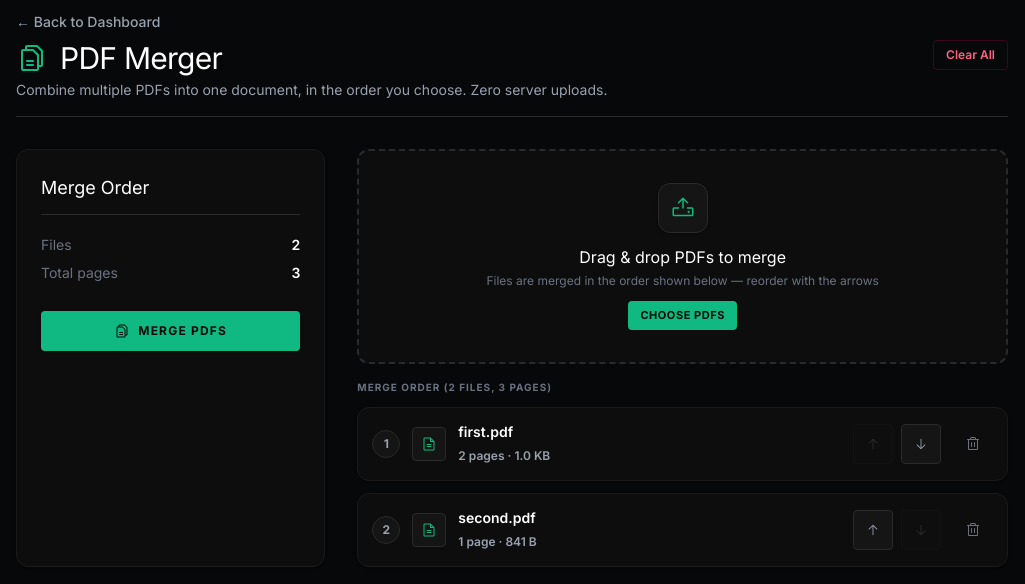
it: PdfMerger component › merges two uploaded PDFs in order and offers a download
The image size is (1025, 584).
Earlier steps of the test are not shown.
expect the heading "first.pdf" is shown: met, box [458,422,513,440]
expect the heading "second.pdf" is shown: met, box [458,508,537,528]
Click the button "Merge PDFs" at x=171, y=331, box [41,311,300,351]
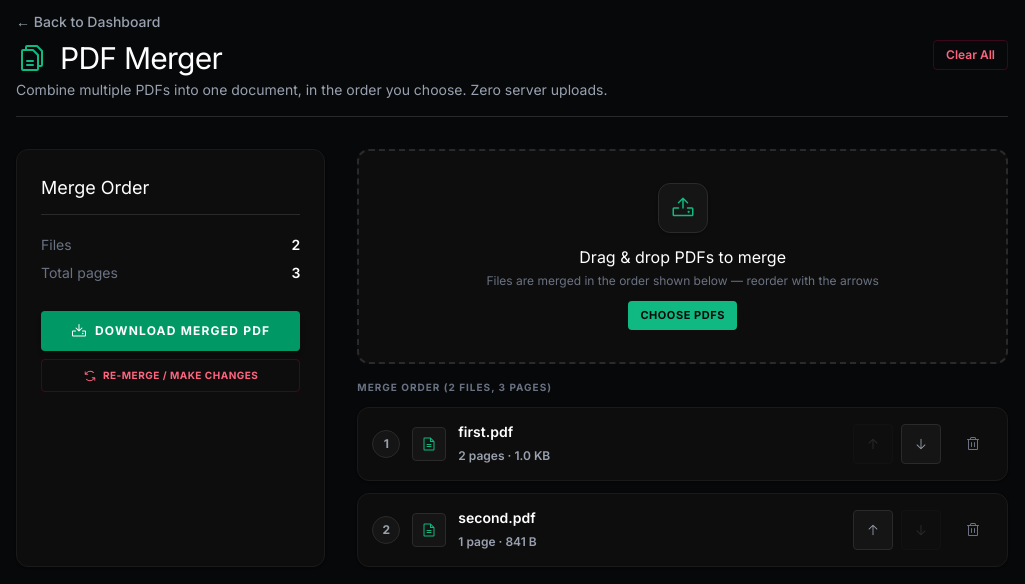
expect the button "Download Merged PDF" is shown: met, box [41,311,300,351]
